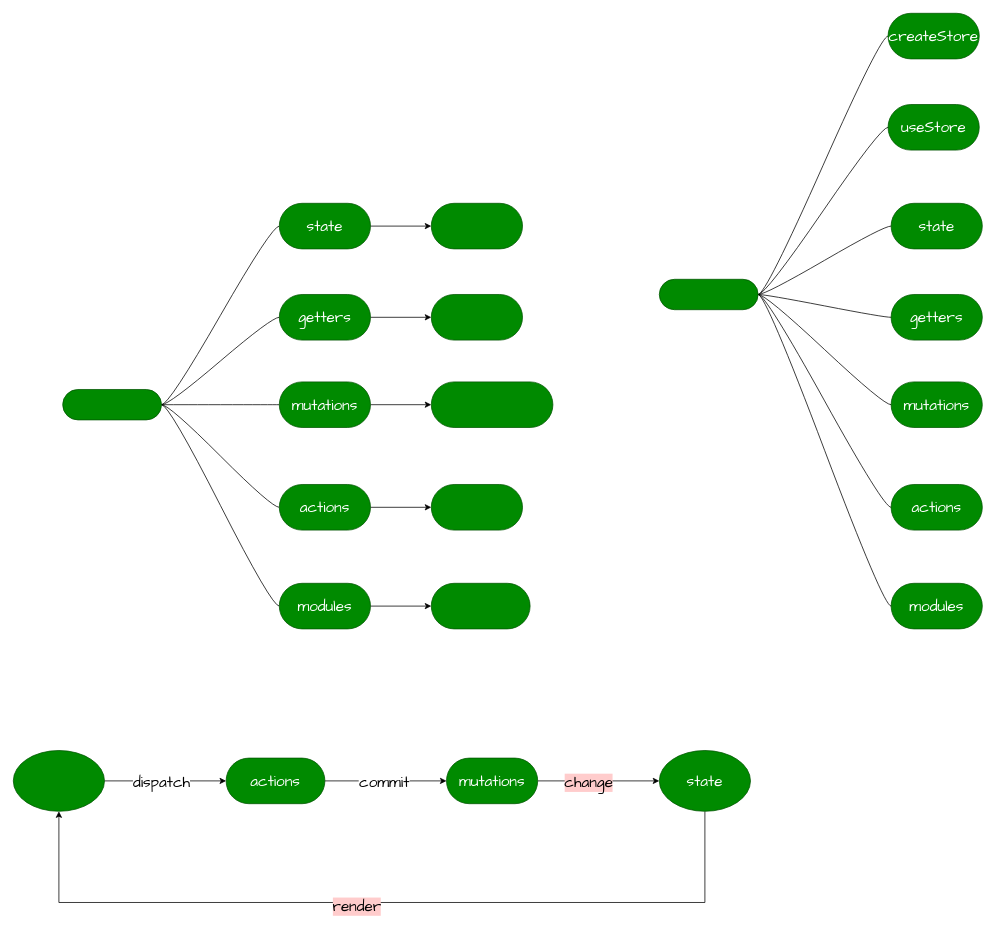
This 996x929 diagram has some shape labels left out. The shapes that lost their labels are listed below. From the top down, each one's centre as x and y in pixels, then its label:
At pixel 476 226: "mapState".
At pixel 708 294: "Vuex_v4".
At pixel 476 317: "mapGetters".
At pixel 112 404: "Vuex_v3".
At pixel 492 404: "mapMutations".
At pixel 476 507: "mapActions".
At pixel 480 606: "nameSpaced".
At pixel 58 780: "view".
